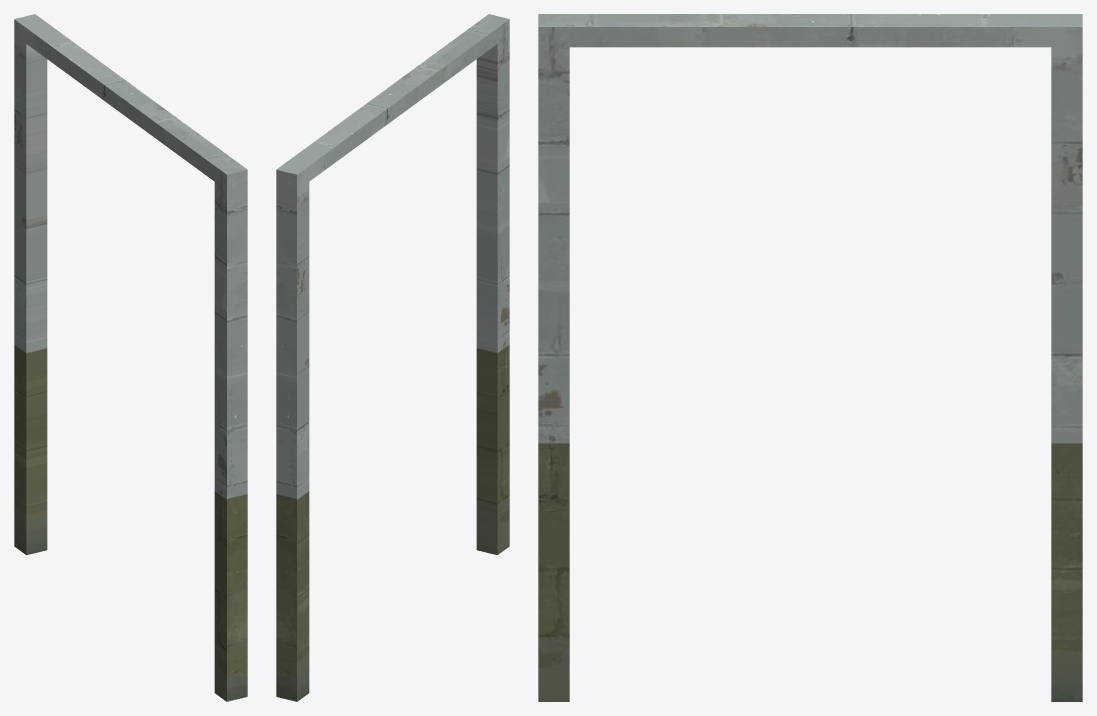
Rendered from DoorBorder.fbx.
3 views of the same model, side by side, from view 1: azimuth 30°, elevation 25°; view 2: azimuth 150°, elevation 25°; view 3: azimuth 270°, elevation 25° (orthographic). The views are drawn at different scales.
Visible parts, largest first — view 1: DoorBorder; view 2: DoorBorder; view 3: DoorBorder.
Boxes of the visible parts, x1,y1,x2,y2 form: DoorBorder: (14,14,247,701); DoorBorder: (276,14,509,701); DoorBorder: (538,14,1082,701).
Size of the model in its own units: 0.3485 by 8.38 by 6.13.
